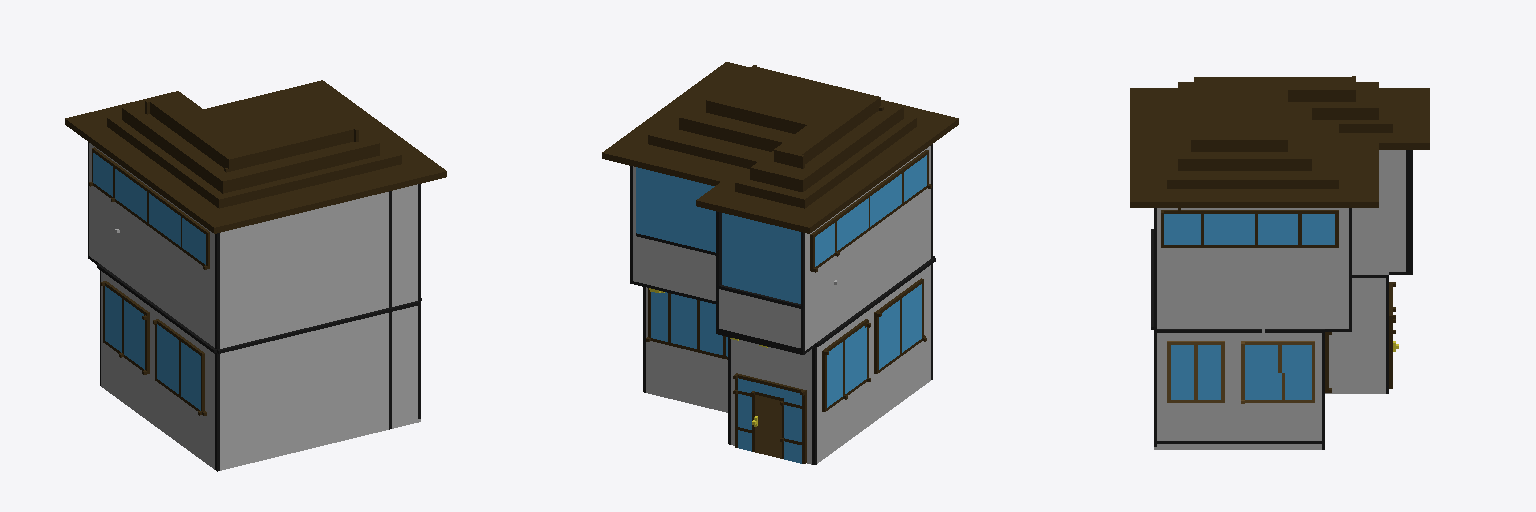
3 views of the same model, side by side, from view 1: azimuth 30°, elevation 25°; view 2: azimuth 150°, elevation 25°; view 3: azimuth 270°, elevation 25° (orthographic).
Visible parts, largest first — view 1: Model; view 2: Model; view 3: Model.
Part boxes in pixels (bbox=[...]): Model: bbox=[65, 80, 446, 471]; Model: bbox=[602, 62, 958, 464]; Model: bbox=[1130, 76, 1429, 449].
Bounding box in the file's own units: 80 × 95 × 89.
1 materials, 1 textured.